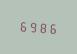eight: (38, 20, 47, 34)
nine: (28, 19, 37, 33)
six: (18, 18, 27, 33), (48, 20, 57, 35)
